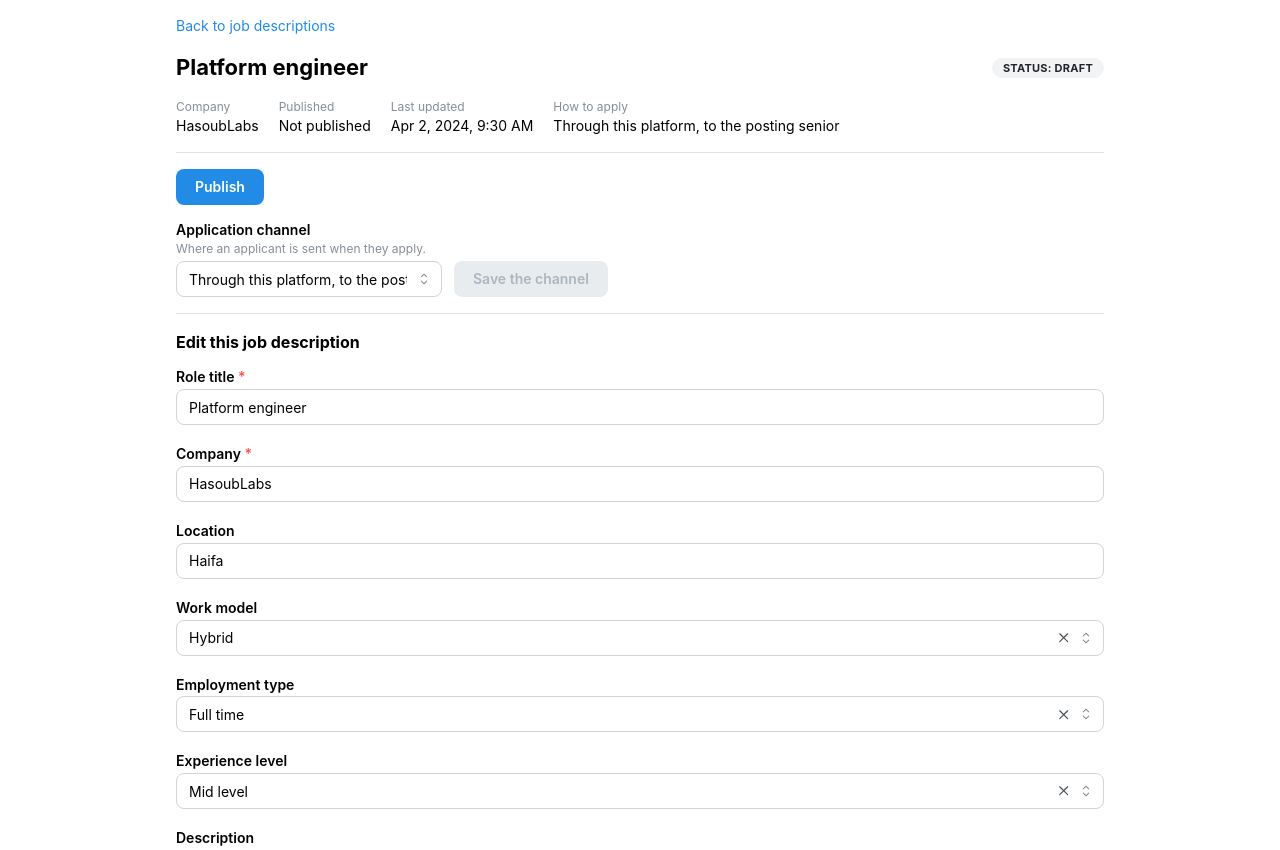
a refused lifecycle transition (Req 13 AC18) › names the reported states and refetches the Job_Description
Click the button with test id "job-publish".
click(220, 187)  # box [176, 169, 264, 205]
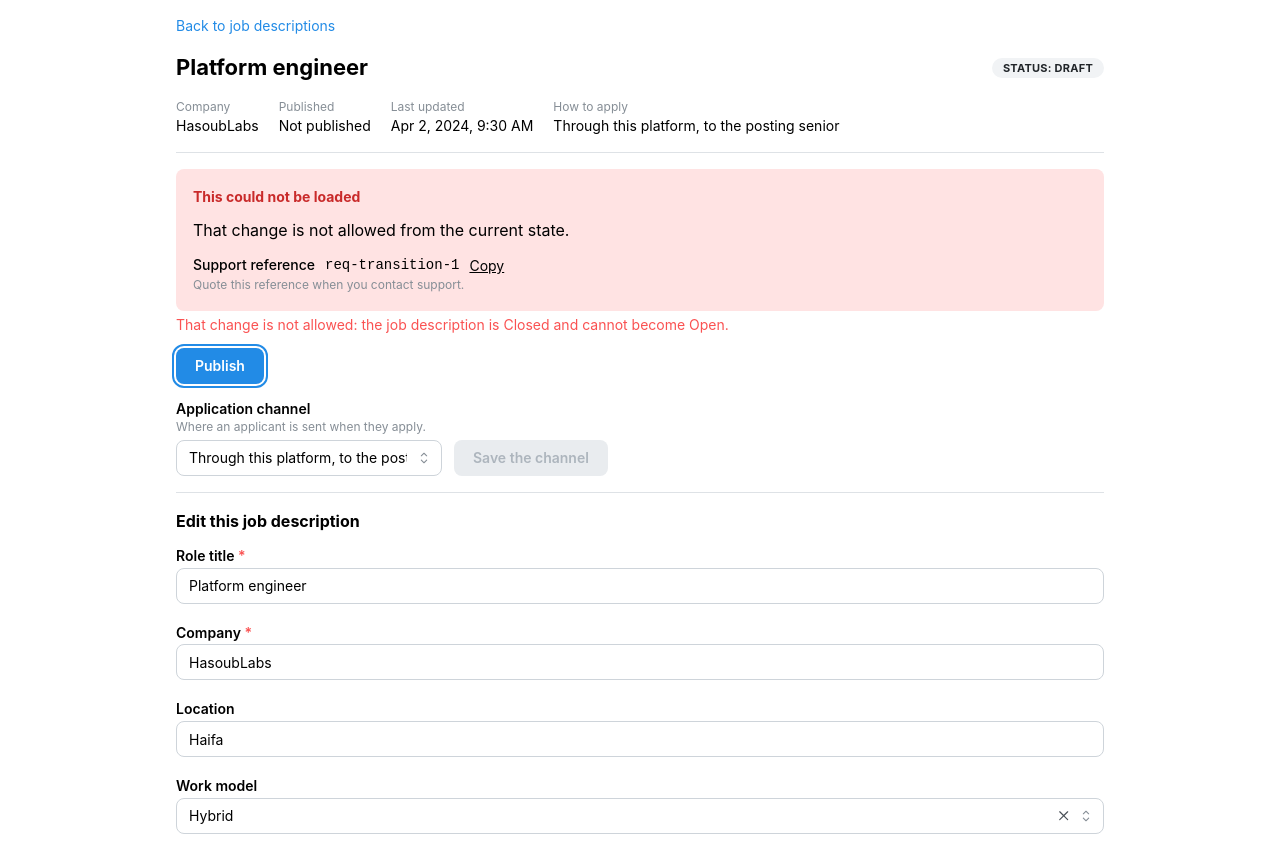
Expected: the message with test id "job-illegal-transition" shows "Closed", [176, 316, 729, 333]
Expected: the message with test id "job-illegal-transition" shows "Open", [176, 316, 729, 333]
Expected: the message with test id "error-state" is shown, [176, 169, 1104, 311]
